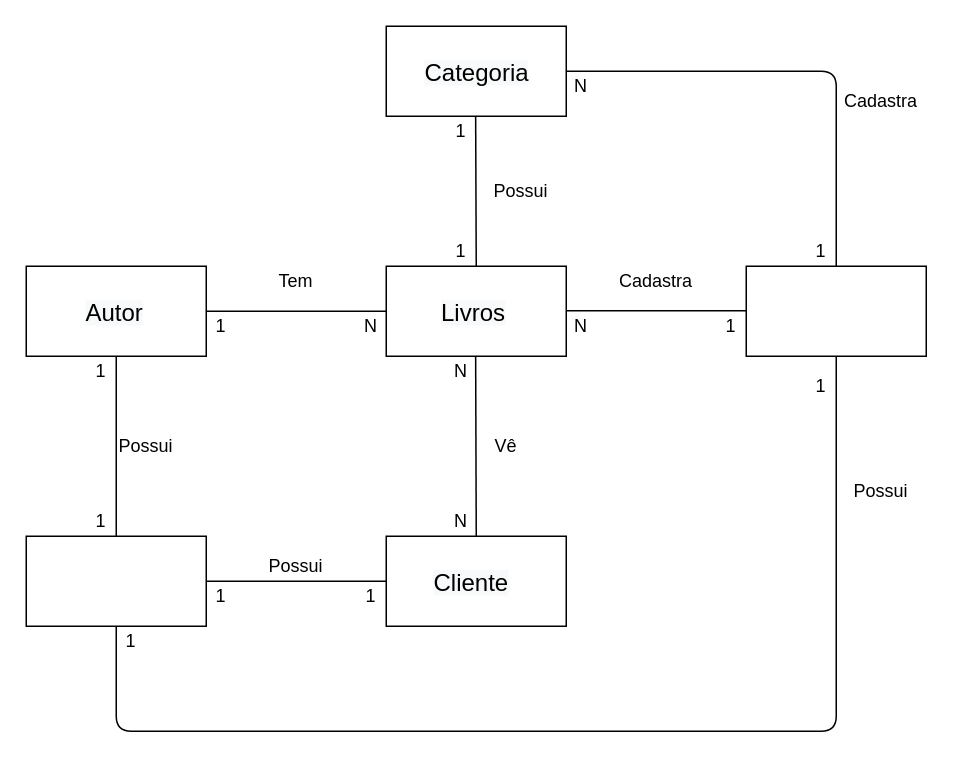
The diagram is 953 pixels wide and 759 high, and some of its shapes have lost their labels. Here are the shapes that lost their labels. From the top down, the centre of each, then its label:
At (835,310): "Administrador".
At (115,580): "Usuario".
